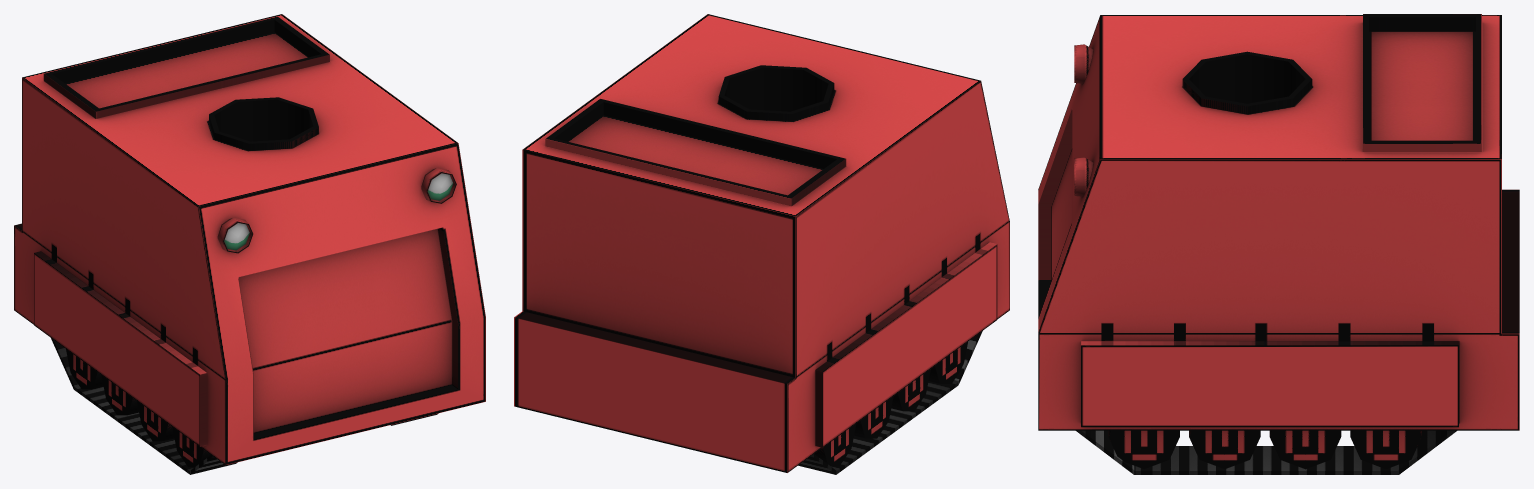
The model's file is APC.glb.
3 views of the same model, side by side, from view 1: azimuth 30°, elevation 25°; view 2: azimuth 150°, elevation 25°; view 3: azimuth 270°, elevation 25° (orthographic). The views are drawn at different scales.
Visible parts, largest first — view 1: APC_APC_Material_0; view 2: APC_APC_Material_0; view 3: APC_APC_Material_0.
Boxes of the visible parts, x1,y1,x2,y2 form: APC_APC_Material_0: (14, 14, 485, 474); APC_APC_Material_0: (514, 14, 1009, 474); APC_APC_Material_0: (1038, 14, 1519, 474).
Size of the model in its own units: 4.01 by 4.03 by 5.37.
1 material, 1 textured.
